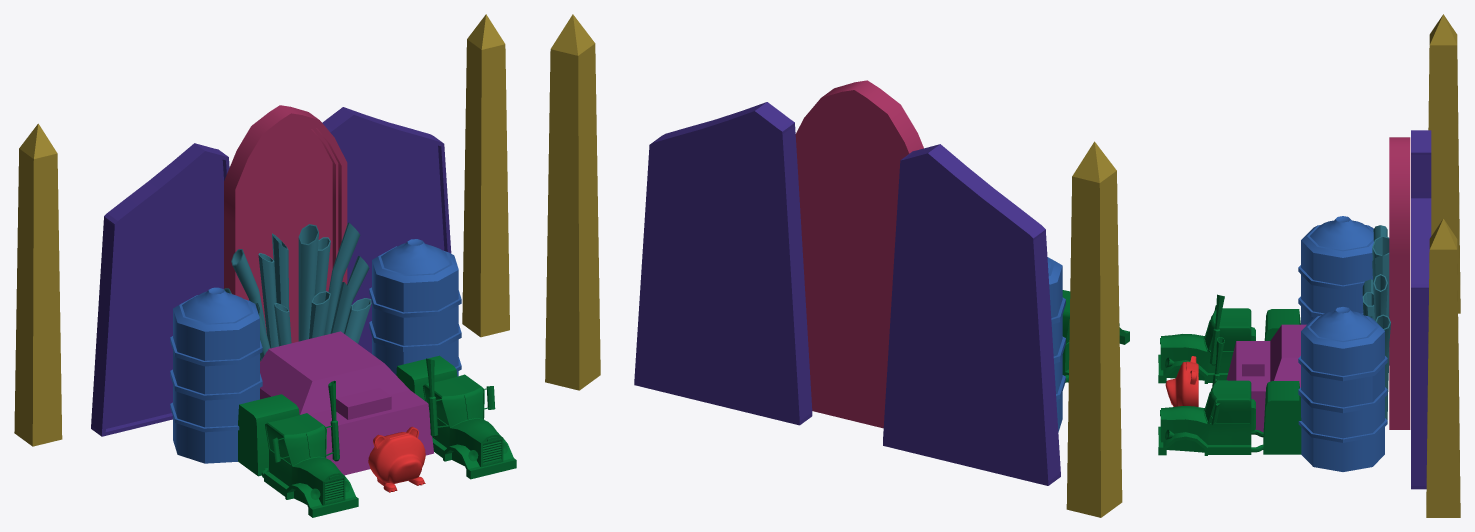
File: Mesh_altar.FBX
3 renders of one model, left to right at view 1: azimuth 30°, elevation 25°; view 2: azimuth 150°, elevation 25°; view 3: azimuth 270°, elevation 25°, orthographic. The views are drawn at different scales.
Parts seen in each view (by area): view 1: Group001; view 2: Group001; view 3: Group001.
Part boxes in pixels (x1,y1,x2,y2): Group001: (14, 14, 516, 517); Group001: (545, 14, 1129, 517); Group001: (1158, 14, 1460, 517).
Bounding box in the file's own units: 1196 × 750 × 701.
